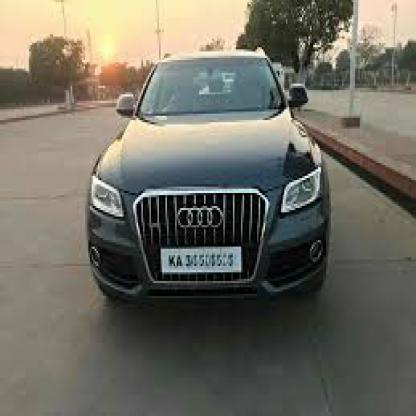car: (86, 47, 336, 313)
